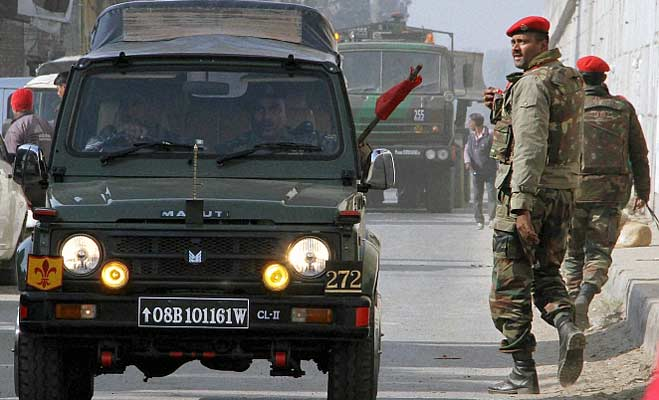number_plate: (136, 294, 250, 329)
